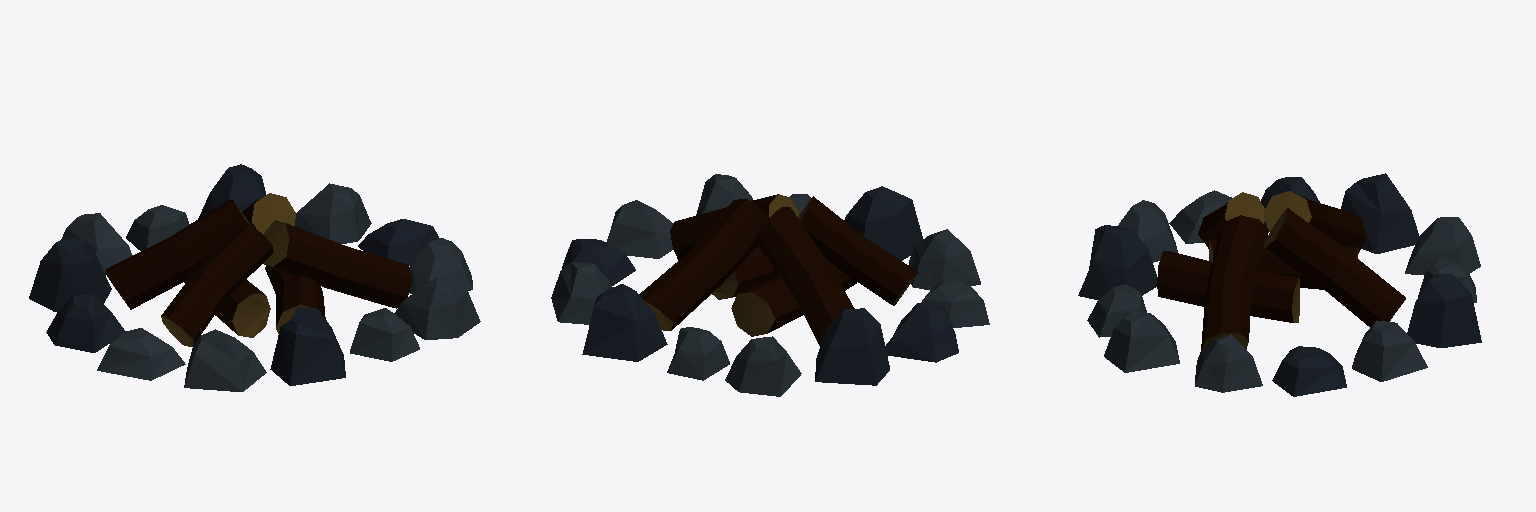
The model's file is Bonfire.obj.
3 views of the same model, side by side, from view 1: azimuth 30°, elevation 25°; view 2: azimuth 150°, elevation 25°; view 3: azimuth 270°, elevation 25° (orthographic).
Parts seen in each view (by area): view 1: obj4, obj1, obj3, obj2; view 2: obj1, obj3, obj4, obj2; view 3: obj1, obj4, obj3, obj2.
Part boxes in pixels (x1,y1,x2,y2): obj4: (61,183,480,391); obj1: (105,195,412,343); obj3: (29,164,438,385); obj2: (115,193,314,346); obj1: (639,194,918,345); obj3: (562,186,958,385); obj4: (551,174,989,396); obj2: (645,194,916,336); obj1: (1157,192,1405,349); obj4: (1087,190,1480,392); obj3: (1078,173,1481,396); obj2: (1202,191,1403,348).
Size of the model in its own units: 0.4066 by 0.1122 by 0.3624.